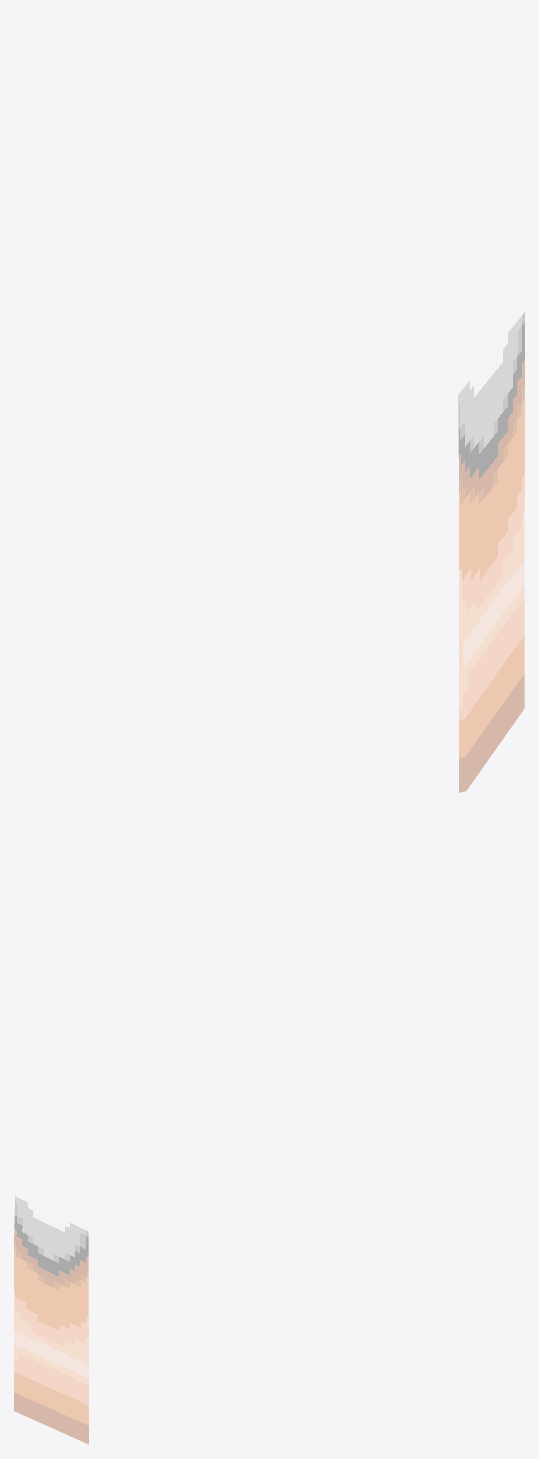
3 views of the same model, one above another, from view 1: azimuth 30°, elevation 25°; view 2: azimuth 150°, elevation 25°; view 3: azimuth 270°, elevation 25° (orthographic). The views are drawn at different scales.
Size of the model in its own units: 0.5625 by 1.58 by 3.42.
Materials: 1 (1 with a texture image).
